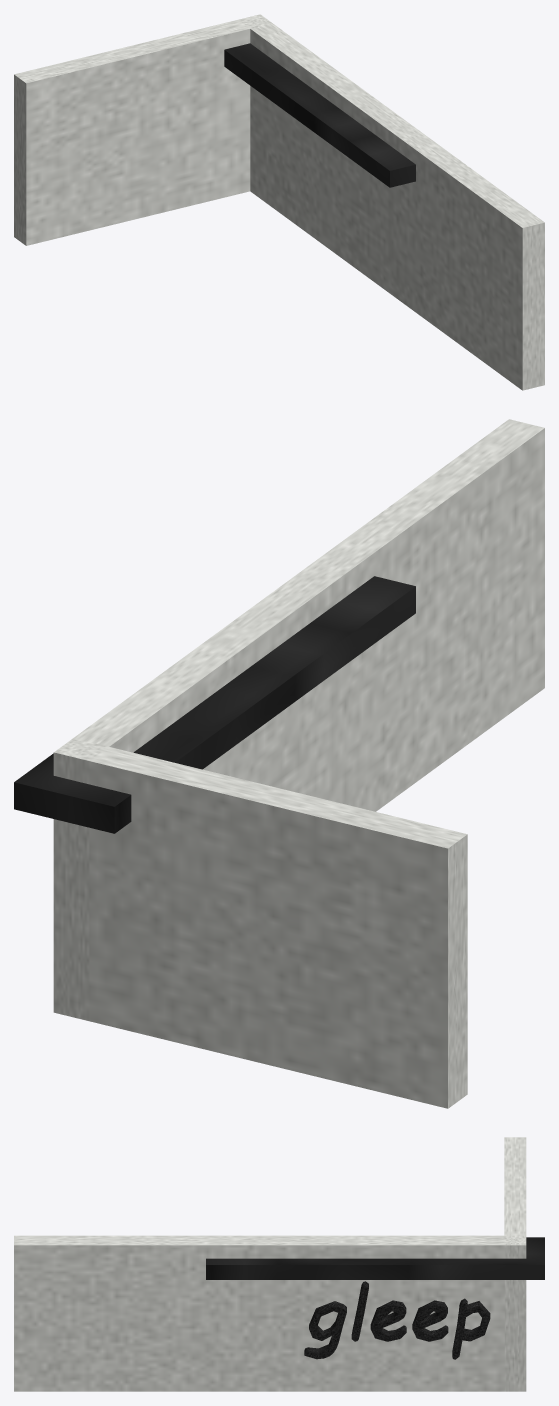
The model's file is corner.glb.
3 renders of one model, top to bottom at view 1: azimuth 30°, elevation 25°; view 2: azimuth 150°, elevation 25°; view 3: azimuth 270°, elevation 25°, orthographic. The views are drawn at different scales.
Parts seen in each view (by area): view 1: Text; view 2: Text; view 3: Text.
Boxes of the visible parts, x1,y1,x2,y2 form: Text: (14, 14, 544, 390); Text: (14, 419, 544, 1108); Text: (14, 1137, 544, 1391).
Bounding box in the file's own units: 1.33 × 0.7946 × 2.61.
Materials: 1 (1 with a texture image).
